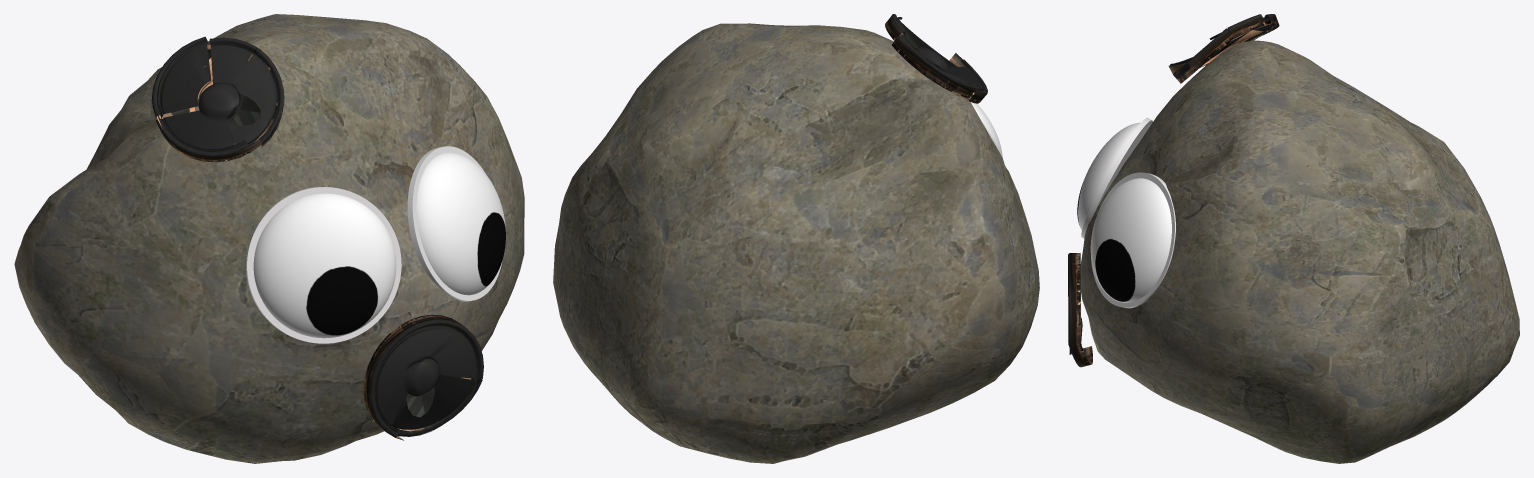
File: CaillouEnceinte.glb
3 renders of one model, left to right at view 1: azimuth 30°, elevation 25°; view 2: azimuth 150°, elevation 25°; view 3: azimuth 270°, elevation 25°, orthographic. The views are drawn at different scales.
Visible parts, largest first — view 1: node_id31_4, node_id36_8, Mesh_0.001, node_id33_7, Mesh_0; view 2: node_id31_4, Mesh_0.001; view 3: node_id31_4, node_id33_7, node_id36_8, Mesh_0.001, Mesh_0.
Boxes of the visible parts, box(x1,y1,x2,y2) form: node_id31_4: box(14, 14, 524, 463); node_id36_8: box(246, 187, 401, 343); Mesh_0.001: box(152, 36, 284, 162); node_id33_7: box(407, 146, 505, 301); Mesh_0: box(363, 314, 483, 440); node_id31_4: box(553, 23, 1039, 463); Mesh_0.001: box(885, 14, 987, 103); node_id31_4: box(1080, 40, 1519, 463); node_id33_7: box(1090, 172, 1175, 308); node_id36_8: box(1077, 117, 1152, 238); Mesh_0.001: box(1168, 14, 1279, 83); Mesh_0: box(1068, 253, 1092, 367).
Size of the model in its own units: 1.36 by 1.12 by 1.31.
Materials: 4 (4 with a texture image).
